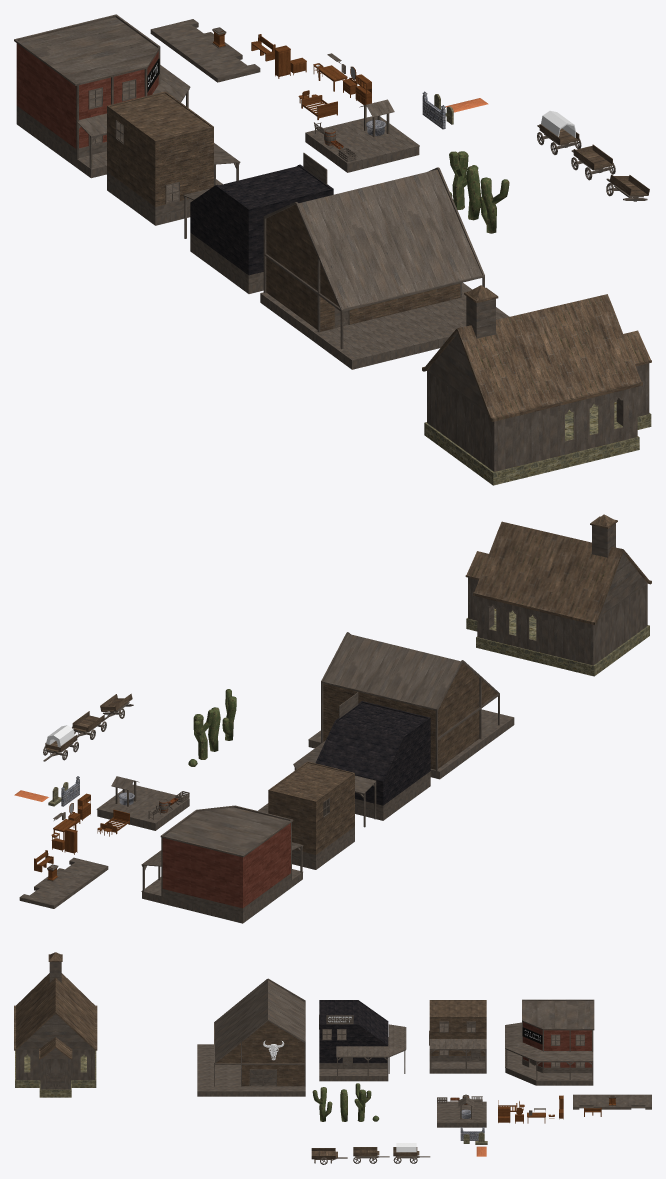
The model's file is village_hq.glb.
The picture shows the model from 3 angles, top to bottom: view 1: azimuth 30°, elevation 25°; view 2: azimuth 150°, elevation 25°; view 3: azimuth 270°, elevation 25°; orthographic projection. The views are drawn at different scales.
Visible parts, largest first — view 1: Cube.166, Cube.149, Cube.146, Cube.160, Cube.148, Cube.108, Cube.122, Cube.060, Cube.186, Cube.150, Cube.127, Cube.109 (+2 smaller); view 2: Cube.166, Cube.149, Cube.160, Cube.122, Cube.146, Cube.108, Cube.060, Cube.186, Cube.127, Cube.150, Cube.148, Cube.154; view 3: Cube.166, Cube.149, Cube.160, Cube.146, Cube.108, Cube.148, Cube.122, Cube.127, Cube.109, Cube.157, Cube.060, Cube.186 (+4 smaller).
Part boxes in pixels (x1,y1,x2,y2): Cube.166: [422, 285, 651, 485]; Cube.149: [266, 169, 481, 331]; Cube.146: [107, 91, 213, 216]; Cube.160: [190, 164, 333, 284]; Cube.148: [260, 282, 509, 369]; Cube.108: [14, 14, 188, 169]; Cube.122: [16, 43, 158, 157]; Cube.060: [305, 116, 419, 172]; Cube.186: [150, 19, 260, 82]; Cube.150: [263, 167, 484, 349]; Cube.127: [16, 115, 106, 178]; Cube.109: [77, 65, 190, 138]; Cube.166: [465, 514, 651, 676]; Cube.149: [323, 634, 497, 769]; Cube.160: [315, 701, 430, 812]; Cube.122: [162, 823, 290, 915]; Cube.146: [268, 761, 354, 862]; Cube.108: [142, 805, 302, 896]; Cube.060: [96, 784, 189, 830]; Cube.186: [19, 857, 108, 908]; Cube.127: [141, 869, 302, 923]; Cube.150: [321, 632, 499, 770]; Cube.148: [308, 709, 514, 779]; Cube.154: [355, 779, 430, 820]; Cube.166: [14, 952, 97, 1097]; Cube.149: [215, 980, 304, 1086]; Cube.160: [319, 1000, 388, 1068]; Cube.146: [429, 1000, 486, 1061]; Cube.108: [506, 999, 594, 1079]; Cube.148: [197, 1044, 305, 1096]; Cube.122: [523, 1022, 591, 1072]; Cube.127: [505, 1048, 593, 1085]; Cube.109: [505, 1022, 593, 1062]; Cube.157: [336, 1024, 406, 1057]; Cube.060: [437, 1101, 486, 1127]; Cube.186: [573, 1094, 651, 1109].
Bounding box in the file's own units: 23.48 × 9.35 × 53.38.
Materials: 15 (13 with a texture image).
